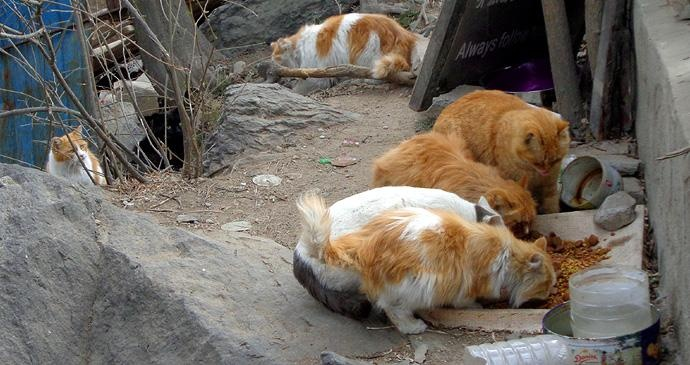cat: (322, 205, 555, 332), (371, 131, 537, 239), (432, 89, 570, 213), (270, 13, 425, 79), (314, 186, 506, 239), (48, 125, 107, 188)
